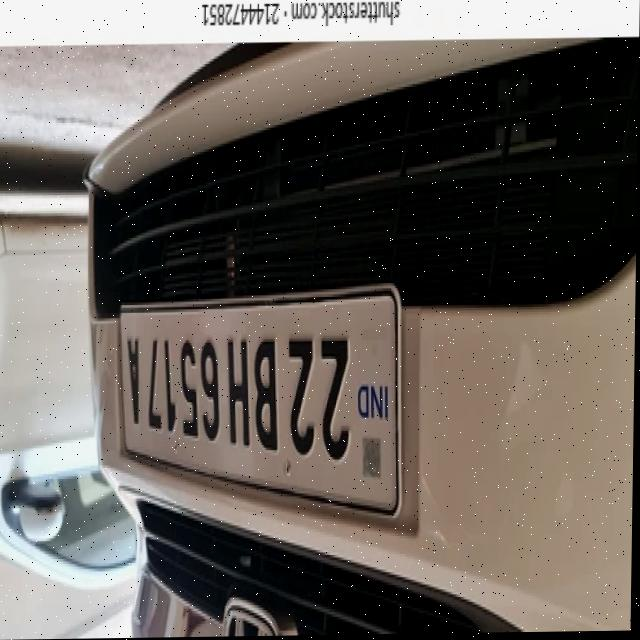plate: (113, 293, 414, 539)
